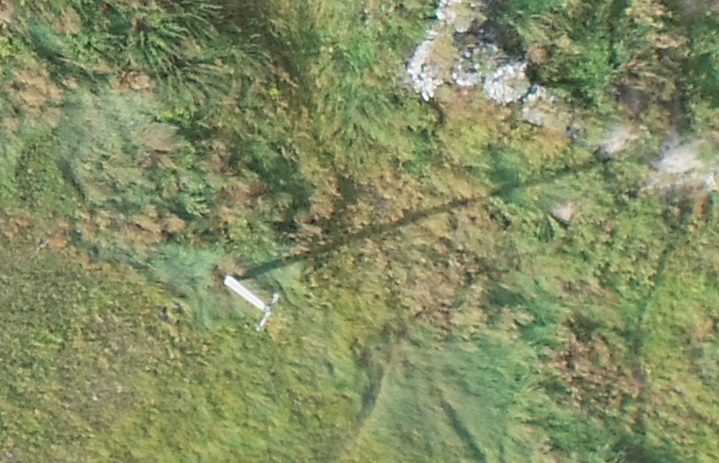opora: (221, 250, 296, 334)
